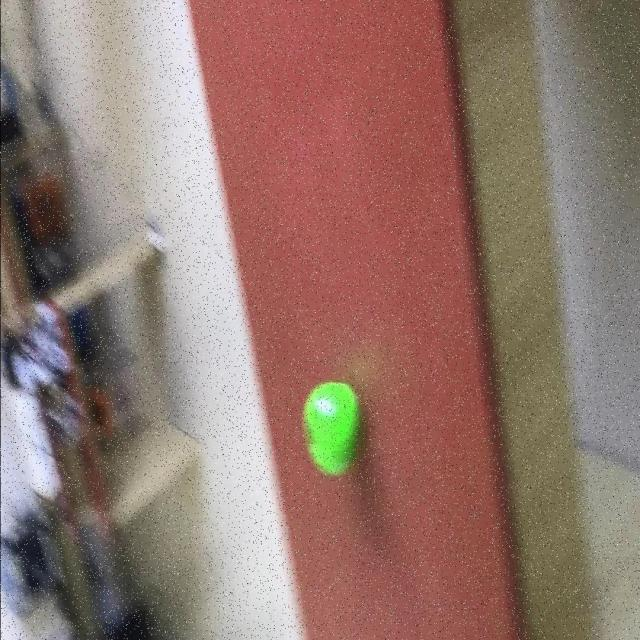Apple: (302, 382, 362, 478)
